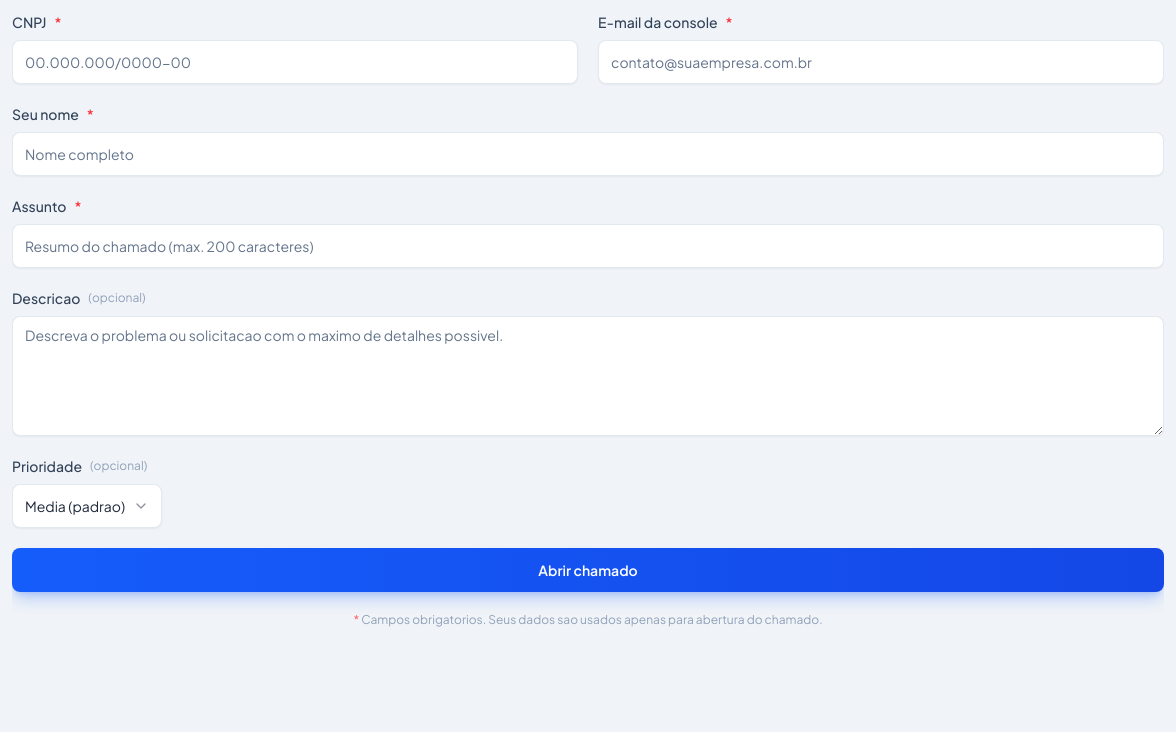
Scenario: TicketForm › (happy) submit com sucesso exibe o protocolo e limpa o formulario
Type "11222333000181" into the field labelled "CNPJ *" at (295, 62), box [12, 40, 578, 84]
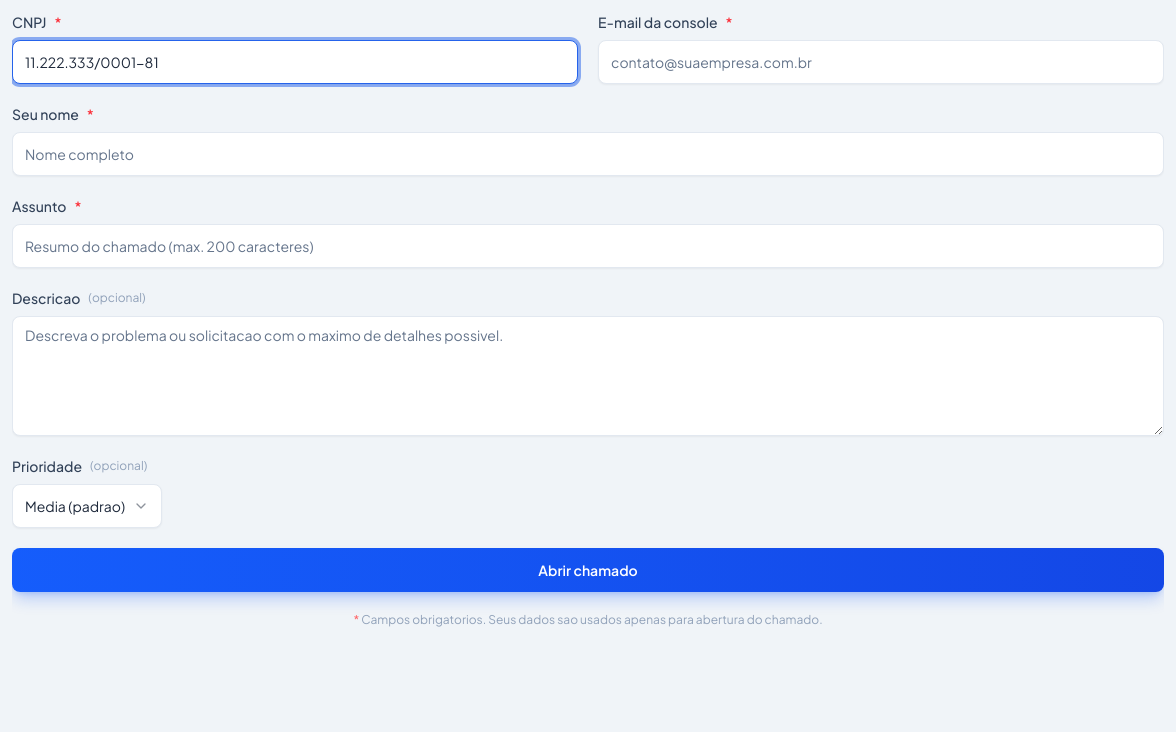
Type "contato@empresa.com" into the field labelled "E-mail da console *" at (881, 62), box [598, 40, 1164, 84]
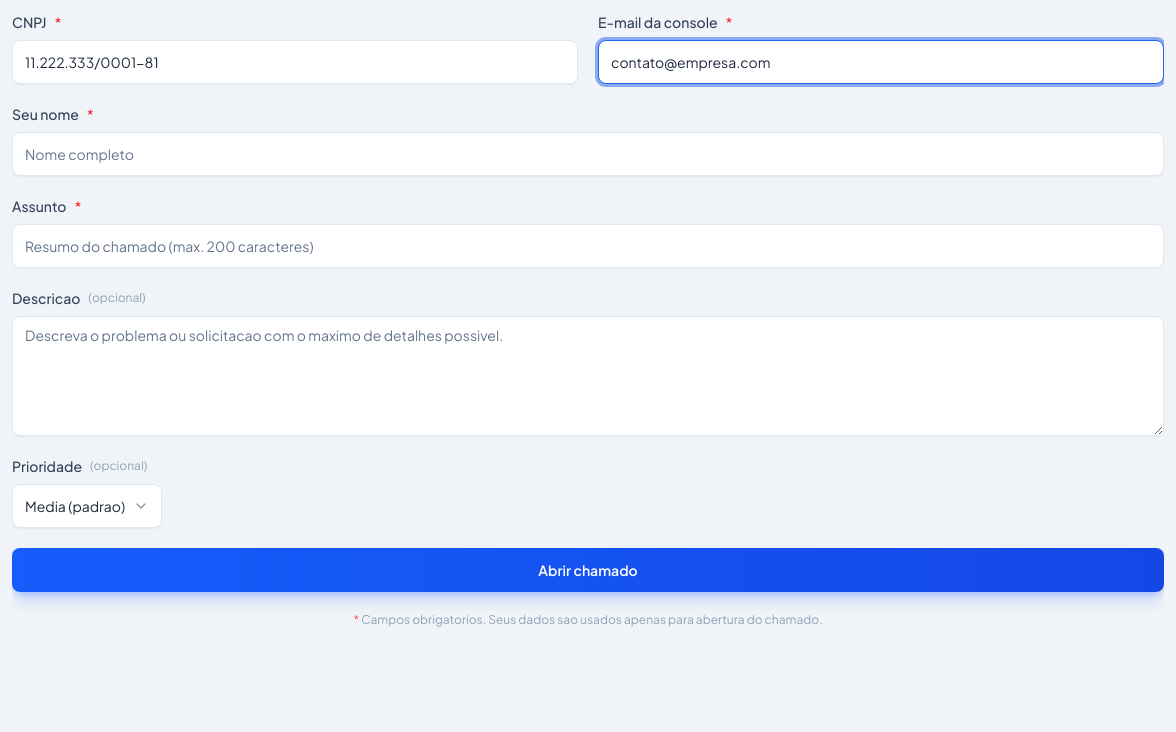
Type "Joao Silva" into the field labelled "Seu nome *" at (588, 154), box [12, 132, 1164, 176]
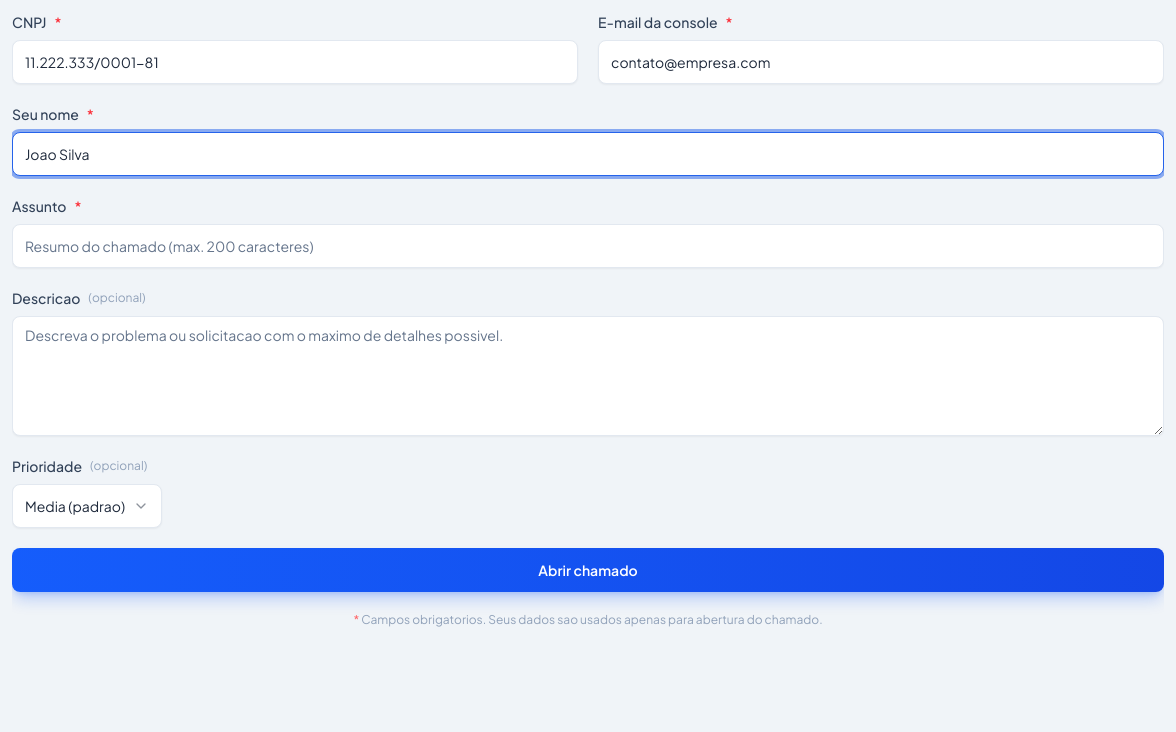
Type "Problema de acesso" into the field labelled "Assunto *" at (588, 246), box [12, 224, 1164, 268]
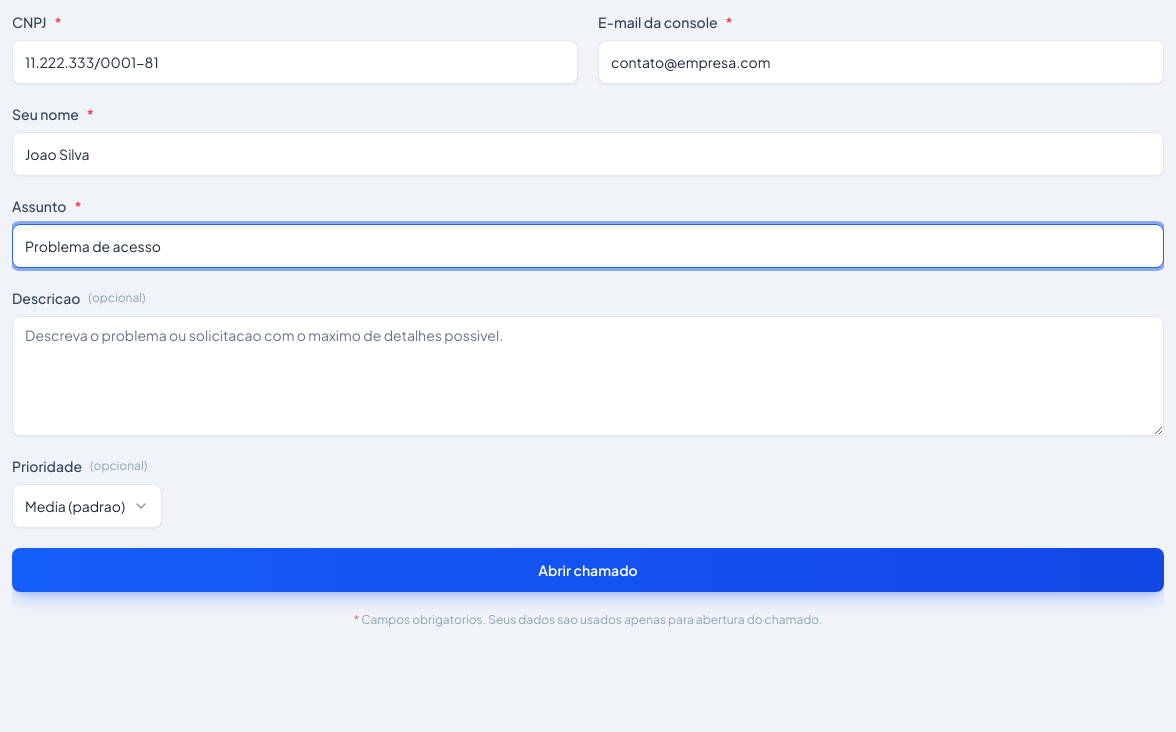
Type "Nao consigo acessar o portal." into the text box labelled "Descricao (opcional)" at (588, 376), box [12, 316, 1164, 436]
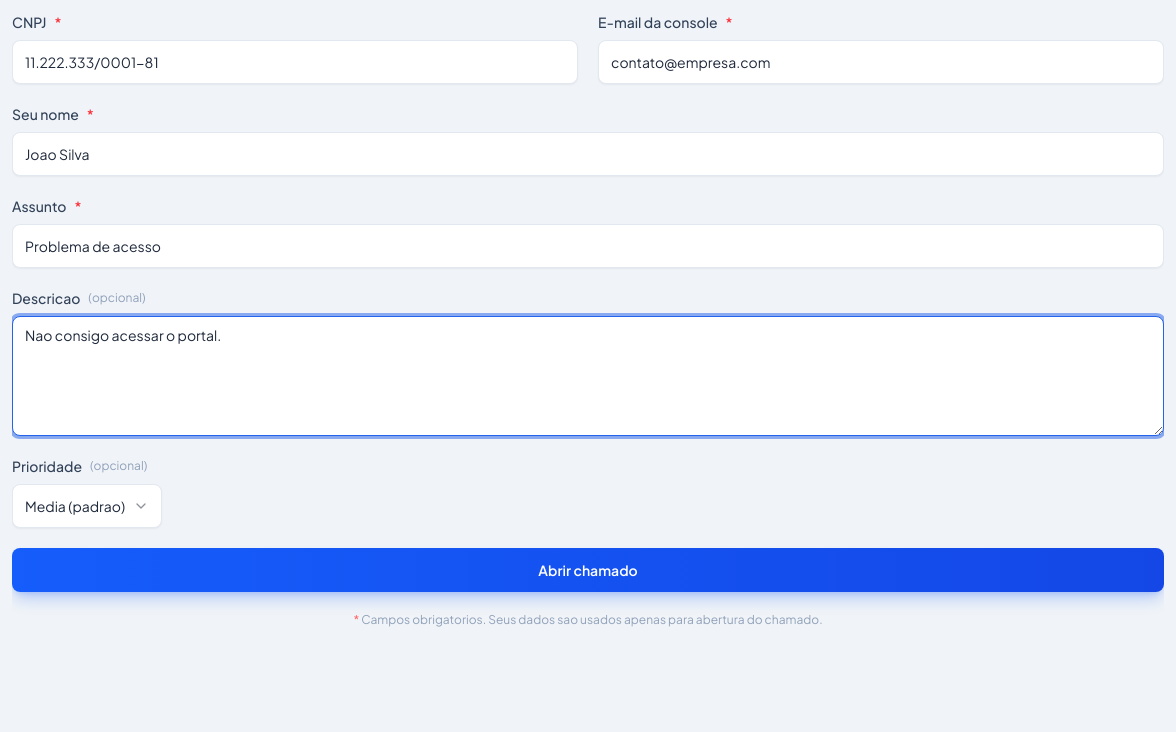
Click the button "Abrir chamado" at (588, 570), box [12, 548, 1164, 592]
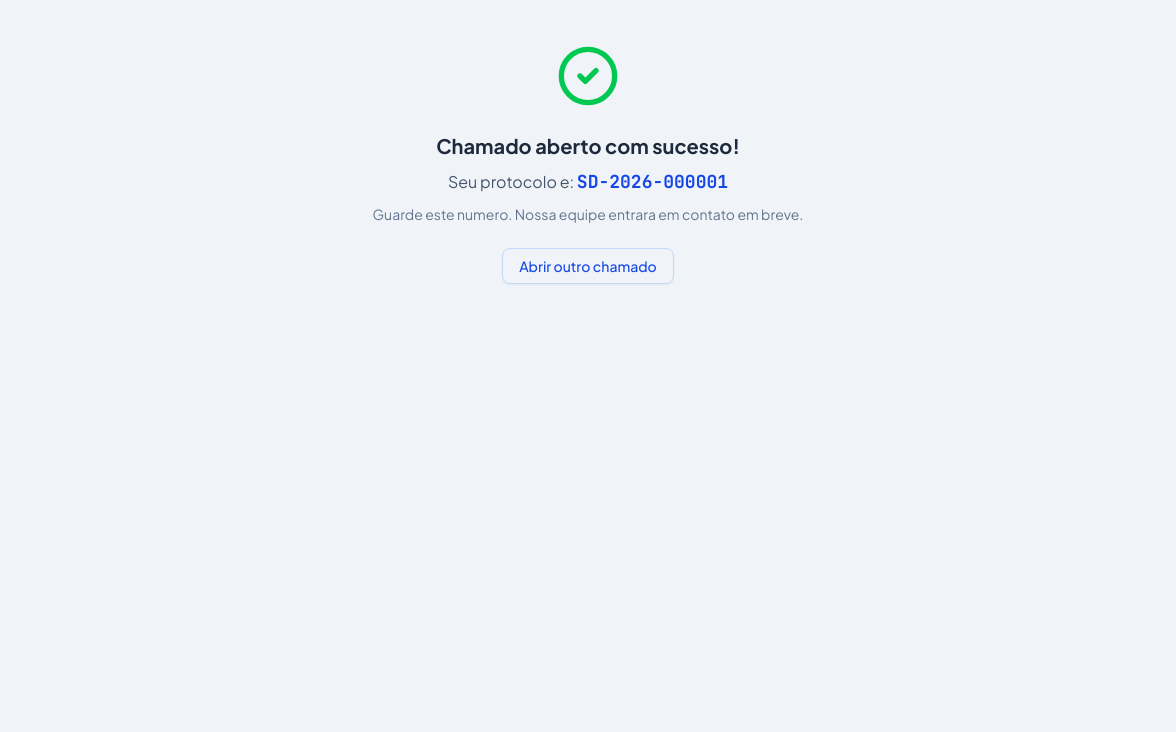
Expected: the message is shown, [373, 44, 803, 284]
Expected: the text "SD-2026-000001" is shown, [577, 170, 728, 193]
Expected: the heading "Chamado aberto com sucesso!" is shown, [436, 133, 740, 158]
